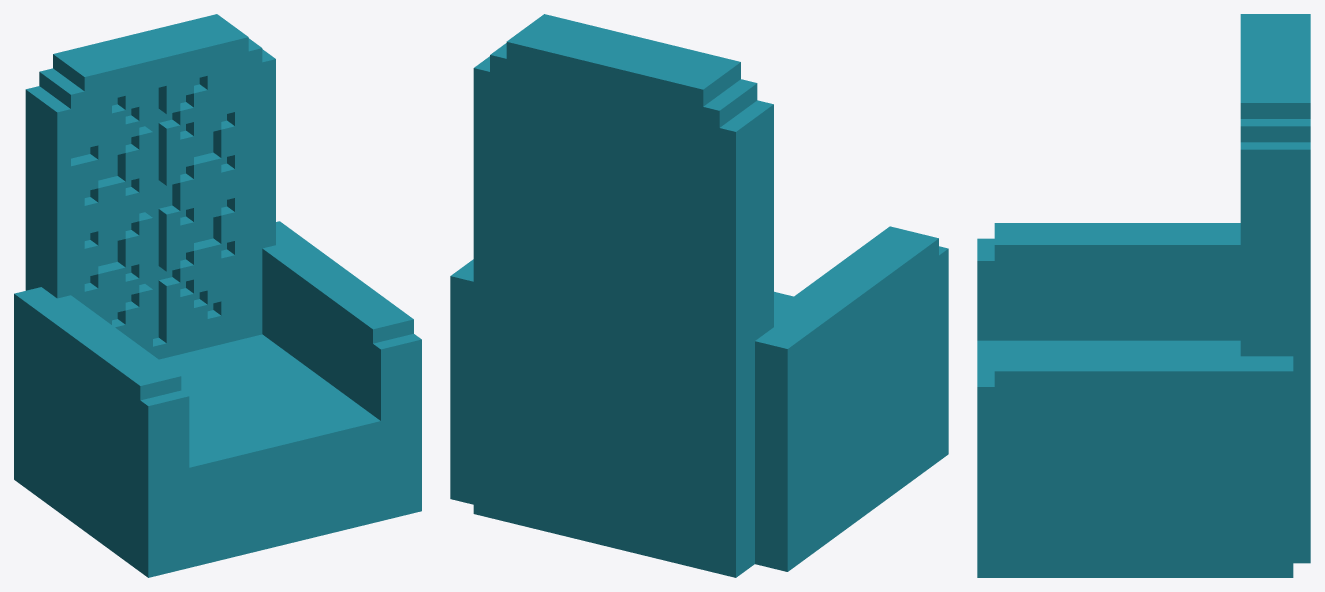
The model's file is Ice throne.gltf.
The picture shows the model from 3 angles, left to right: view 1: azimuth 30°, elevation 25°; view 2: azimuth 150°, elevation 25°; view 3: azimuth 270°, elevation 25°; orthographic projection. The views are drawn at different scales.
Parts seen in each view (by area): view 1: Layer.1; view 2: Layer.1; view 3: Layer.1.
Boxes of the visible parts, x1,y1,x2,y2 form: Layer.1: [14, 14, 421, 577]; Layer.1: [450, 14, 948, 577]; Layer.1: [977, 14, 1310, 577].
Size of the model in its own units: 20 by 28 by 19.
1 material, 1 textured.
